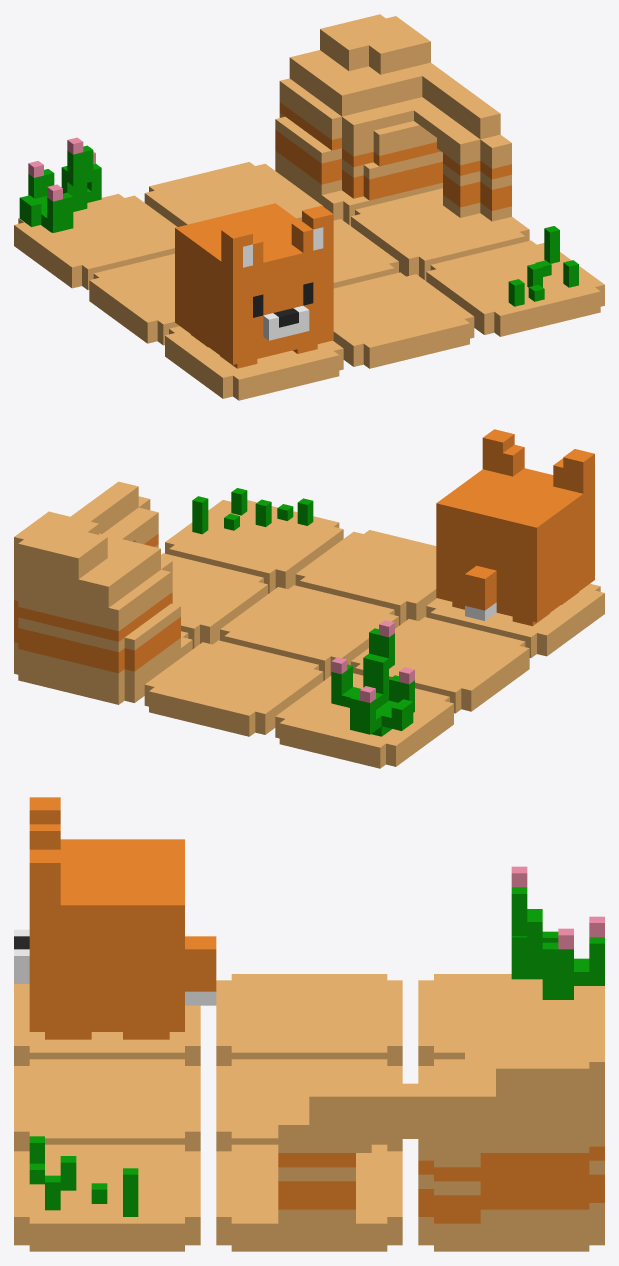
The model's file is chapter_four_tile.obj.
3 renders of one model, top to bottom at view 1: azimuth 30°, elevation 25°; view 2: azimuth 150°, elevation 25°; view 3: azimuth 270°, elevation 25°, orthographic. The views are drawn at different scales.
Bounding box in the file's own units: 3.8 × 1.5 × 3.8.
1 material, 1 textured.
